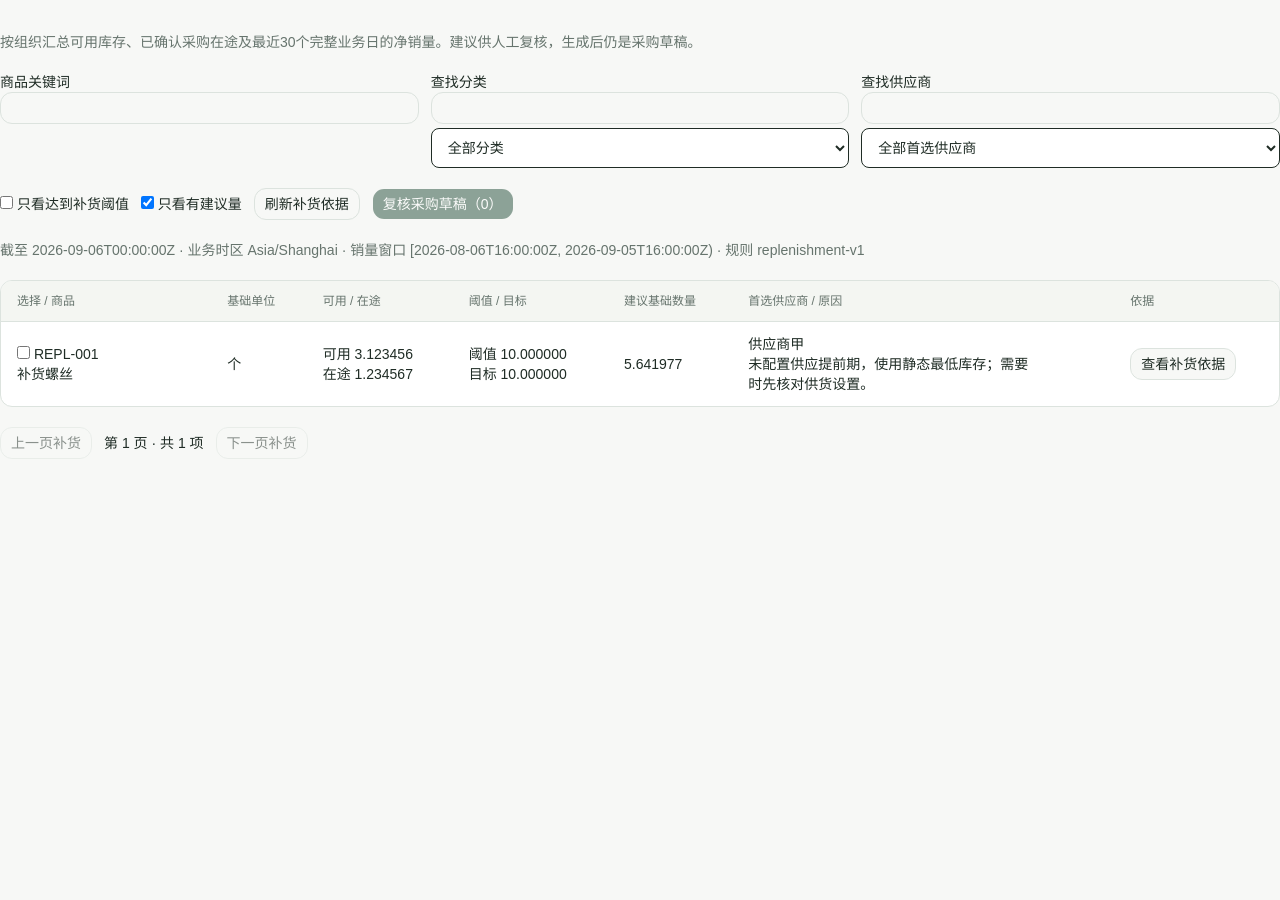
Test case: missing price or inexact conversion blocks create and historical selection sends no stale manual price
Step 1. Click the checkbox named "选择补货商品 REPL-001" → (24, 352), box 17,346 -> 30,359
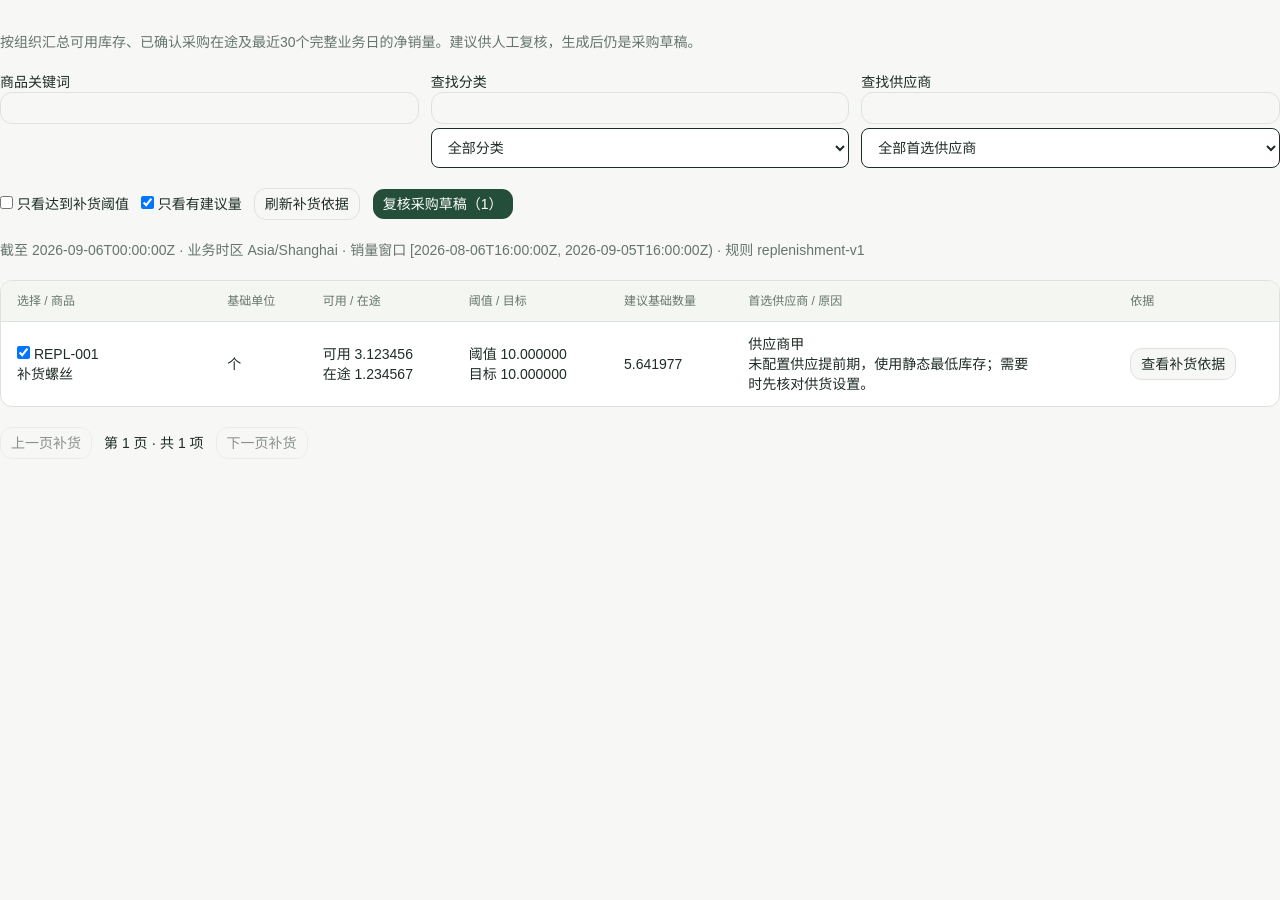
Step 2. Click the button "复核采购草稿（1）" → (443, 204), box 372,188 -> 514,220
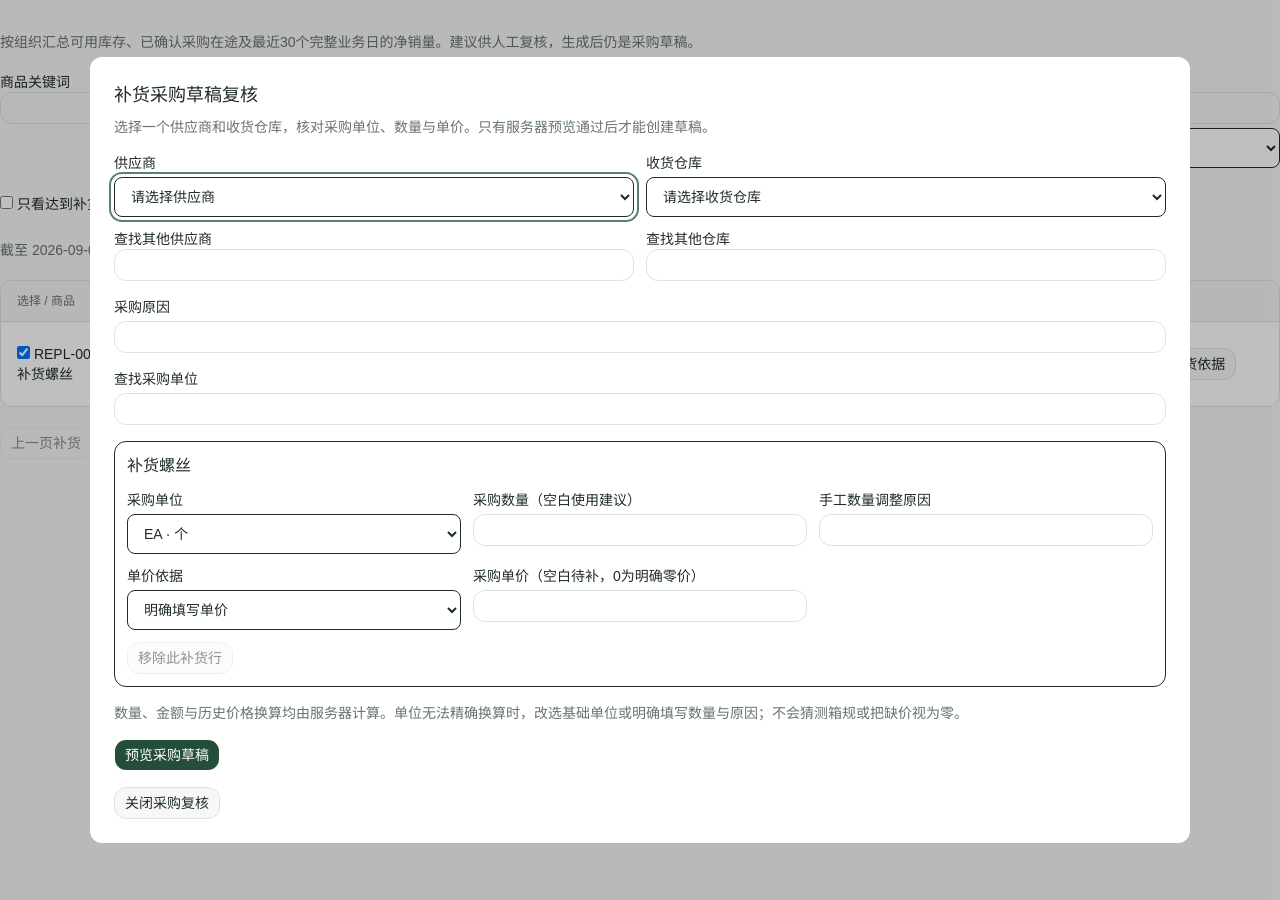
Step 3. Select "SUP · 供应商甲" in the dropdown named "补货采购供应商" → (374, 197), box 114,177 -> 634,217
Step 4. Select "WH · 仓库甲" in the dropdown named "补货收货仓库" → (906, 197), box 646,177 -> 1166,217
Step 5. Type "门店补货" into the field named "补货采购原因" → (640, 337), box 114,321 -> 1166,353
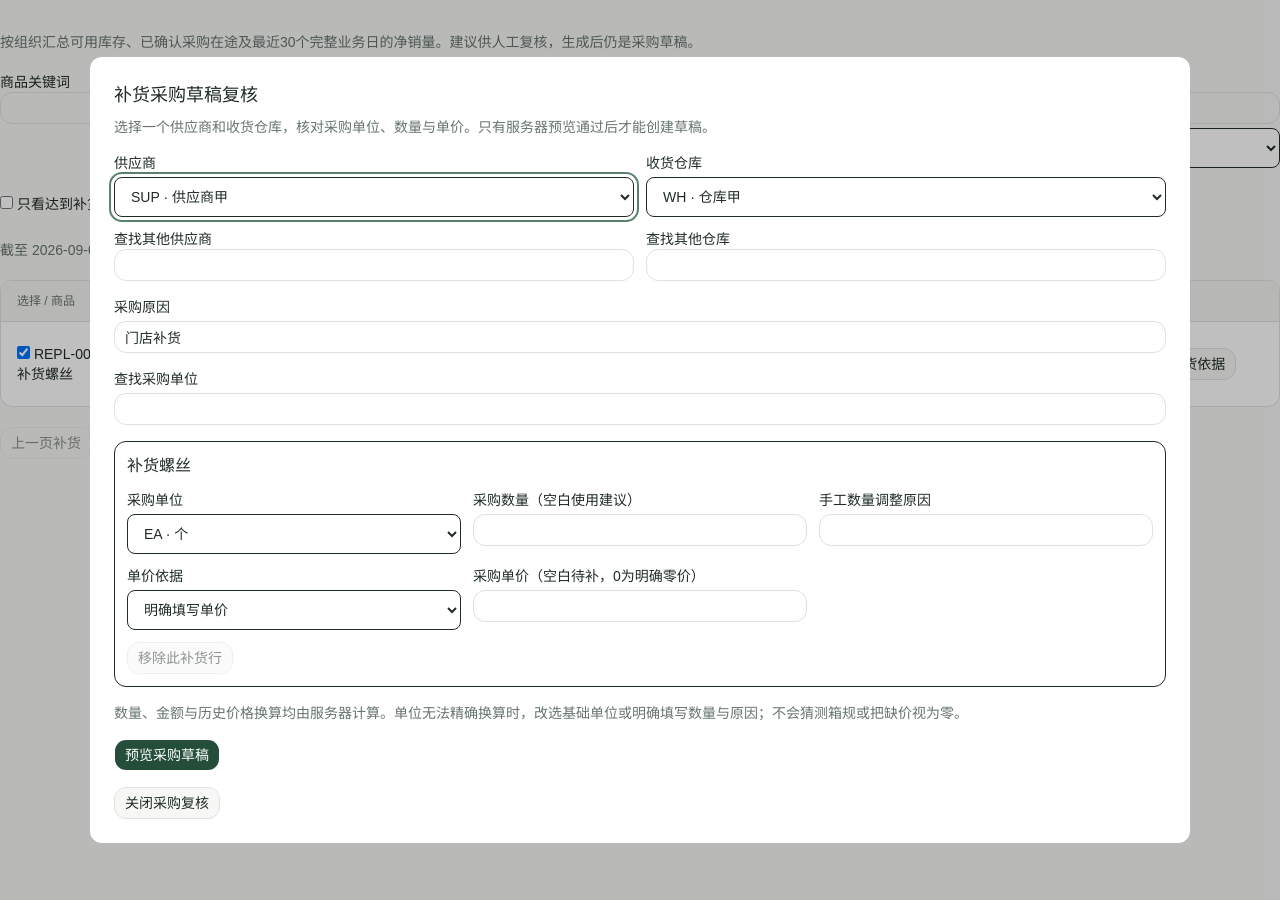
Step 6. Type "88.8888" into the field named "补货采购单价1" → (640, 606), box 473,590 -> 807,622
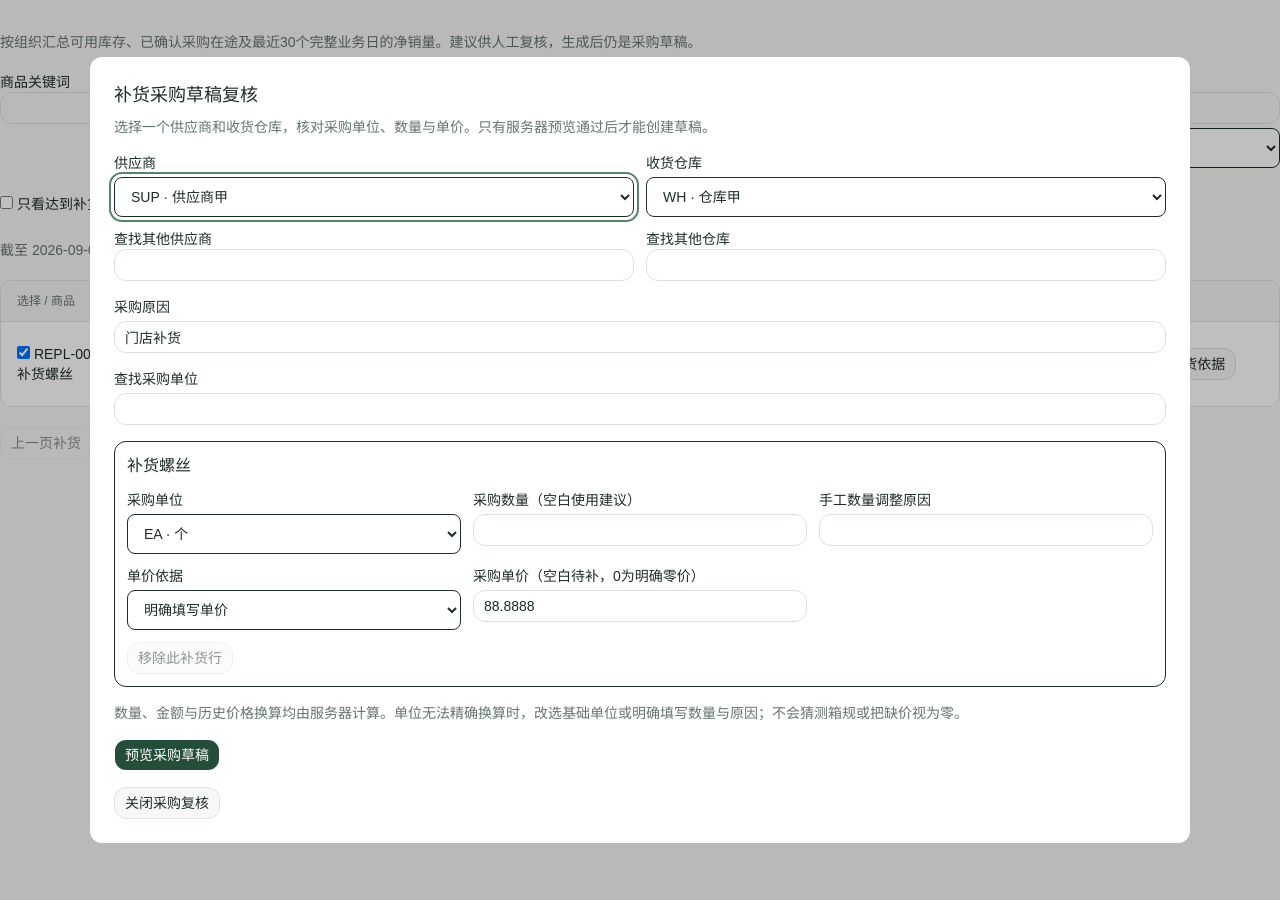
Step 7. Select "选用该供应商实际历史价" in the dropdown named "补货单价依据1" → (294, 610), box 127,590 -> 461,630
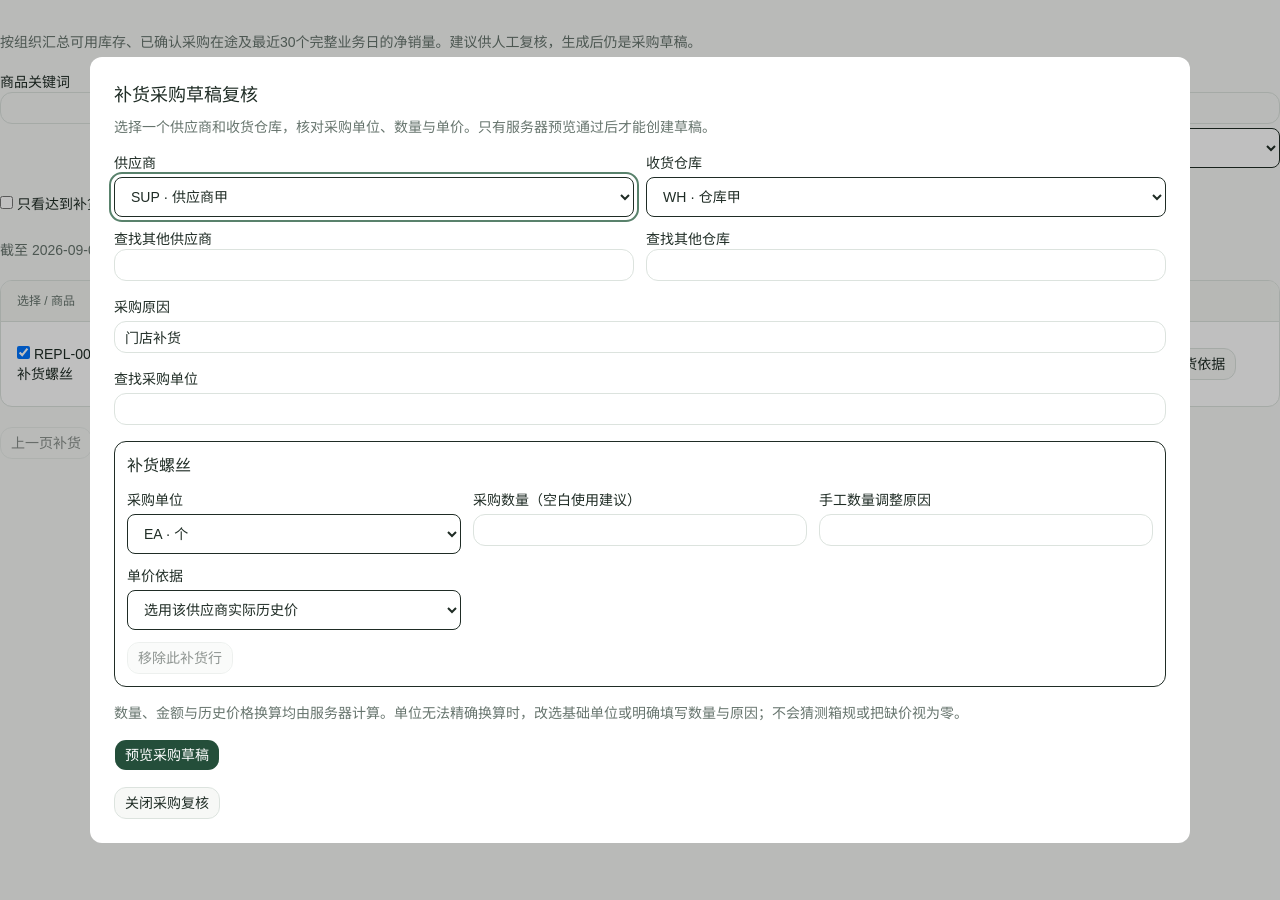
Check: the field labelled "补货采购单价1" is gone
Step 8. Click the button "预览采购草稿" → (167, 755), box 114,739 -> 220,771
(page scrolled)
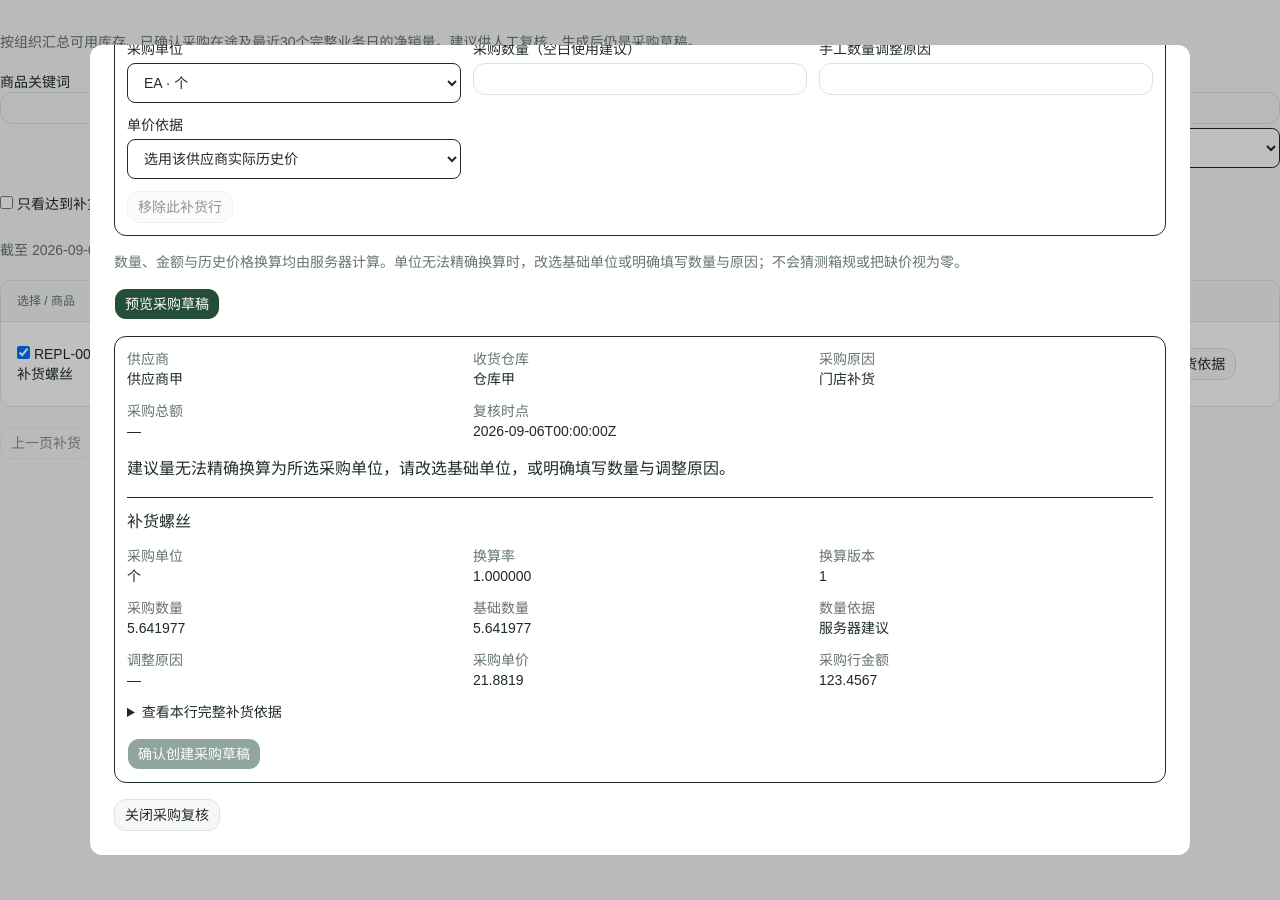
Check: the text "建议量无法精确换算为所选采购单位，请改选基础单位，或明确填写数量与调整原因。" is shown, box 127,460 -> 735,477
Check: the button "确认创建采购草稿" is disabled, box 127,738 -> 261,770
